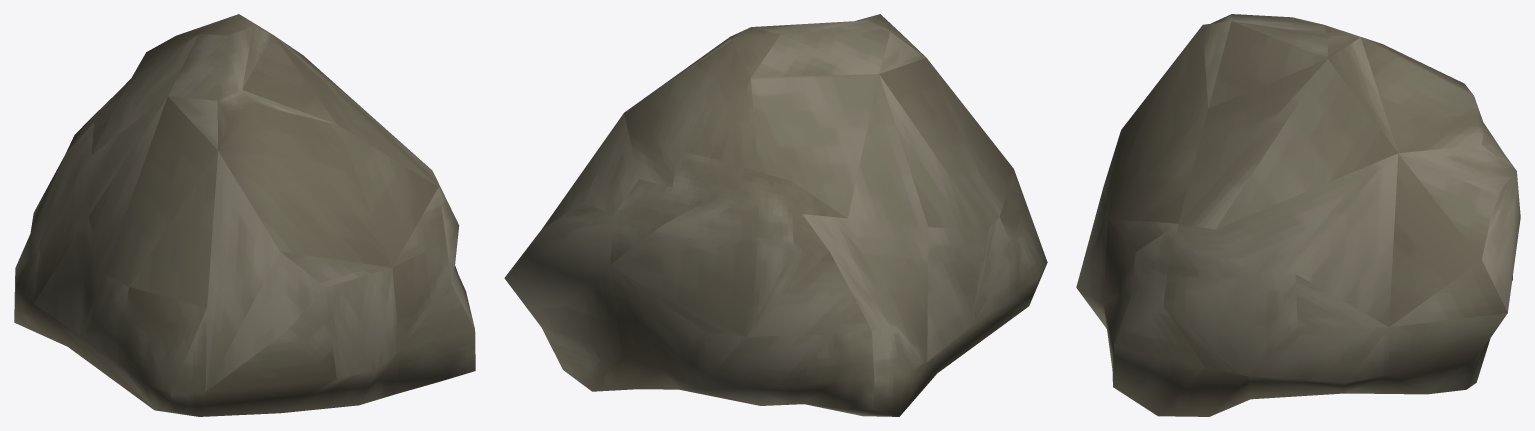
File: stone01.FBX
3 renders of one model, left to right at view 1: azimuth 30°, elevation 25°; view 2: azimuth 150°, elevation 25°; view 3: azimuth 270°, elevation 25°, orthographic. The views are drawn at different scales.
Visible parts, largest first — view 1: stone01; view 2: stone01; view 3: stone01.
Boxes of the visible parts, x1,y1,x2,y2 form: stone01: [14, 14, 475, 416]; stone01: [504, 14, 1047, 416]; stone01: [1076, 14, 1520, 416].
Bounding box in the file's own units: 0.6027 × 0.5053 × 0.6388.
